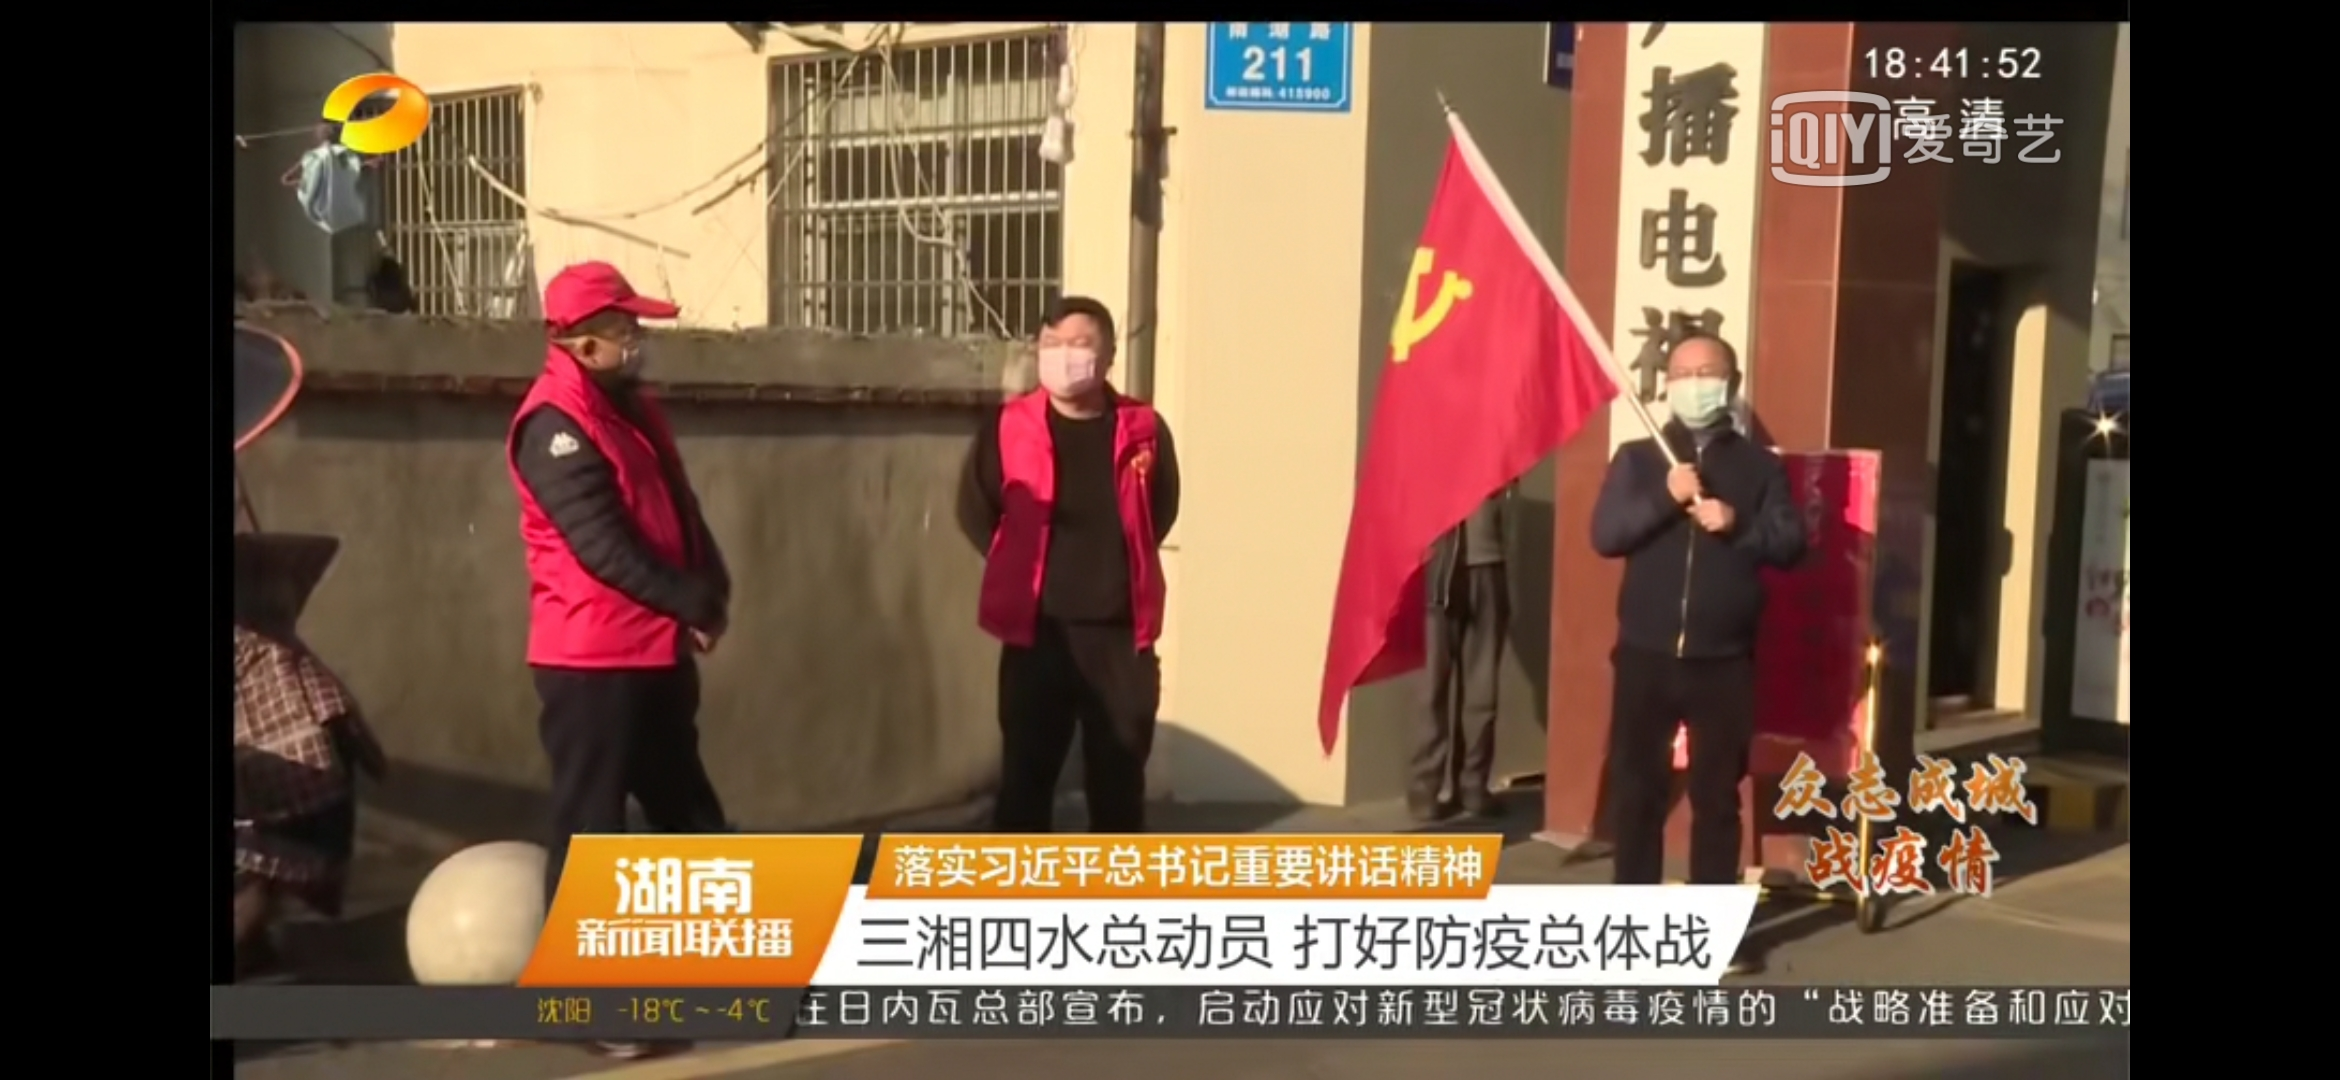correctlyWear: (1031, 324, 1121, 401), (570, 306, 654, 386), (1665, 354, 1737, 430)
